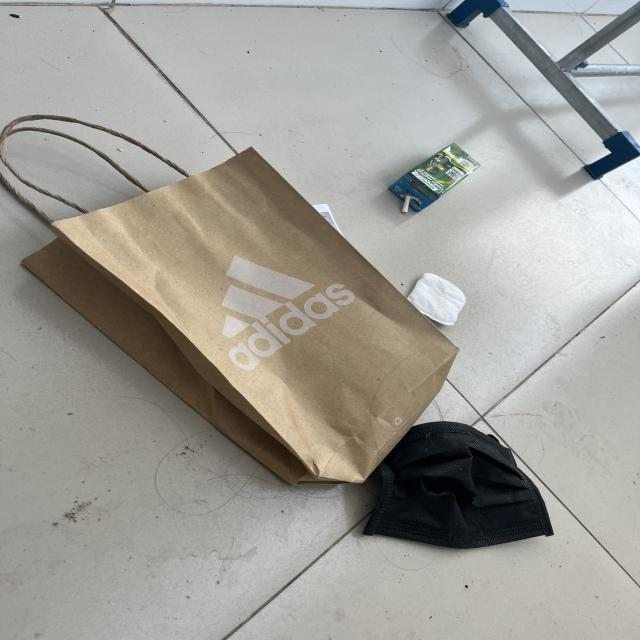bag: (0, 115, 460, 489)
mask: (362, 422, 554, 549)
milk box: (388, 143, 482, 215)
paper: (408, 273, 467, 327)
